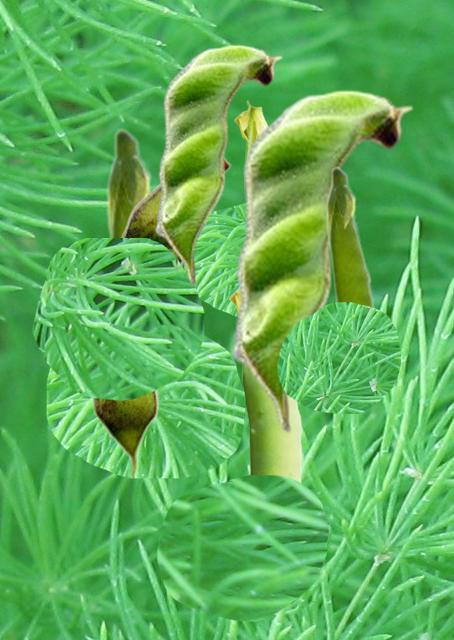pea: (230, 89, 413, 432), (92, 157, 230, 478), (154, 44, 282, 285), (229, 288, 301, 482), (325, 165, 376, 307), (105, 126, 155, 237), (234, 100, 267, 188)
